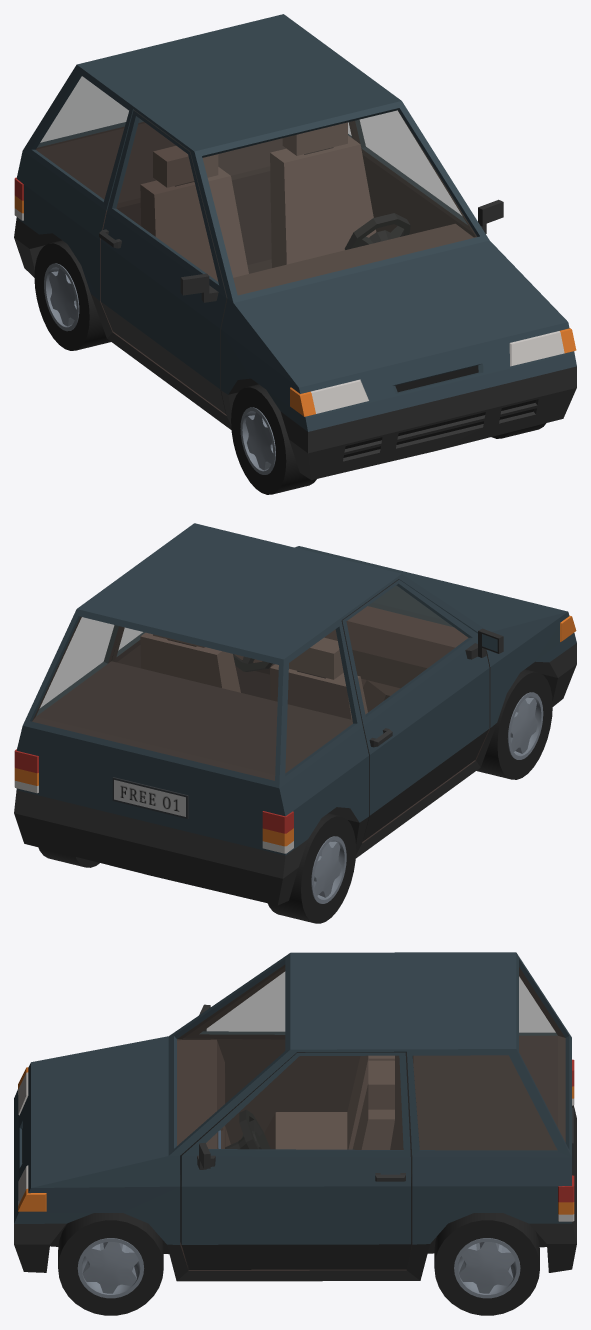
Rendered from car.gltf.
3 renders of one model, top to bottom at view 1: azimuth 30°, elevation 25°; view 2: azimuth 150°, elevation 25°; view 3: azimuth 270°, elevation 25°, orthographic. The views are drawn at different scales.
Parts seen in each view (by area): view 1: car body, windows, interior, door r, win door r.001, wheel fr, wheel br, door l, win door l.001; view 2: car body, windows, door r, interior, win door r.001, wheel br, wheel fr, free number, door l; view 3: car body, door l, windows, win door l.001, interior, door r, wheel bl, wheel fl, win door r.001.
Part boxes in pixels (x1,y1,x2,y2): car body: (14,14,576,480); windows: (36,76,476,294); interior: (140,122,473,295); door r: (99,110,227,414); win door r.001: (116,119,217,280); wheel fr: (231,384,316,494); wheel br: (34,240,110,350); door l: (351,111,503,237); win door l.001: (355,111,467,224); car body: (14,523,576,905); windows: (32,586,452,780); door r: (341,579,503,841); interior: (140,606,468,719); win door r.001: (346,585,467,713); wheel br: (268,813,356,923); wheel fr: (476,669,552,779); free number: (112,777,188,818); door l: (111,626,144,668); car body: (14,952,576,1281); door l: (180,1052,412,1269); windows: (177,965,565,1149); win door l.001: (206,1056,403,1149); interior: (177,1039,394,1149); door r: (182,967,403,1149); wheel bl: (434,1213,539,1315); wheel fl: (58,1213,163,1315); win door r.001: (200,972,284,1034).
Size of the model in its own units: 2.18 by 1.71 by 3.46.
Materials: 2 (2 with a texture image).
